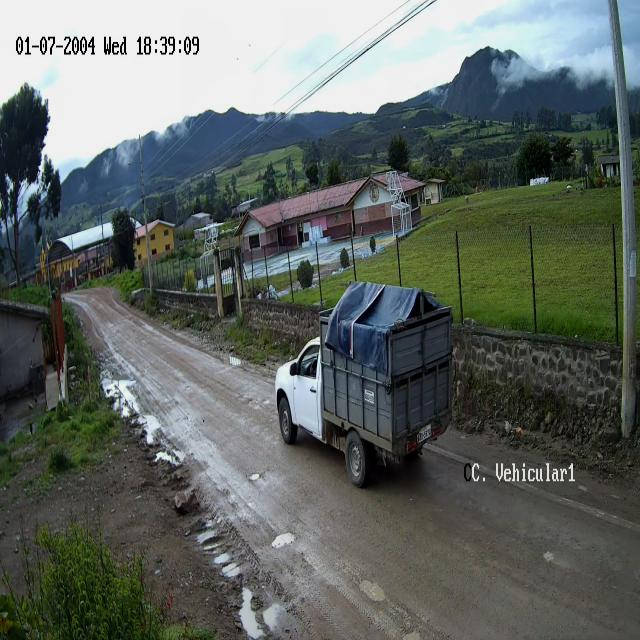CMT: (276, 284, 452, 488)
